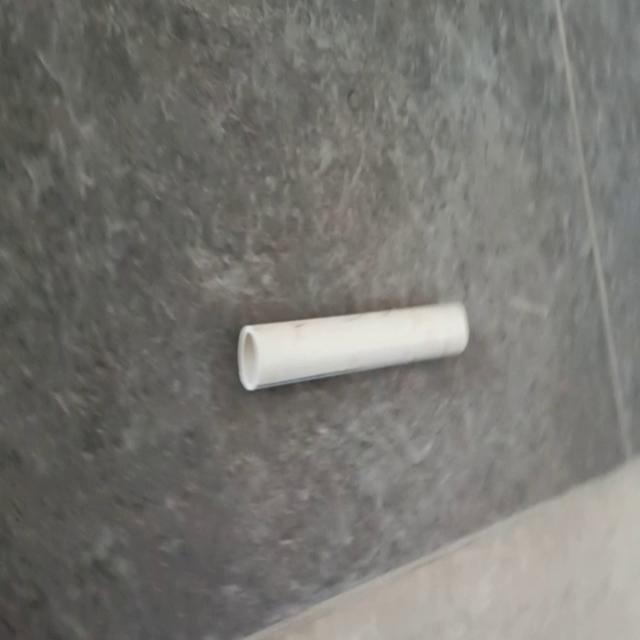Cube: (236, 299, 470, 392)
